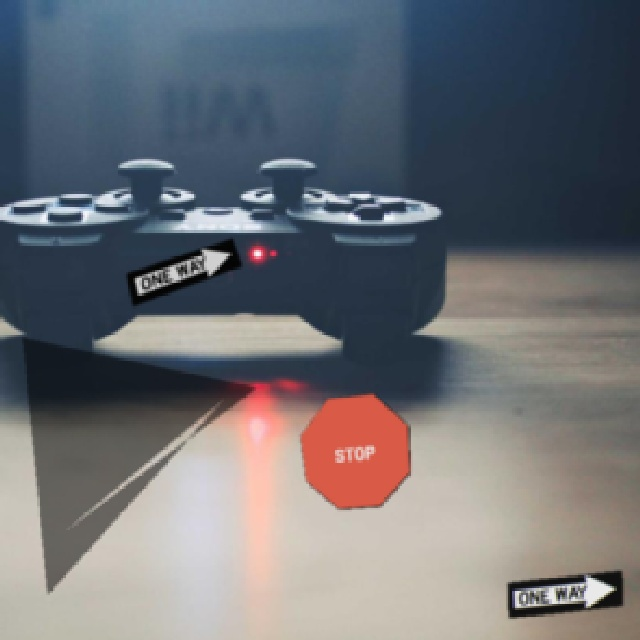ONE_WAY_ right: (124, 236, 241, 305), (505, 568, 622, 617)
STOP: (298, 391, 409, 508)
